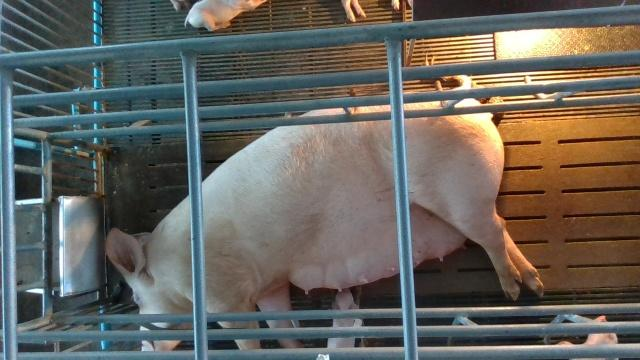piglet: (184, 0, 266, 31), (326, 289, 361, 348)
sow-sleep-lactate: (106, 76, 544, 351)
